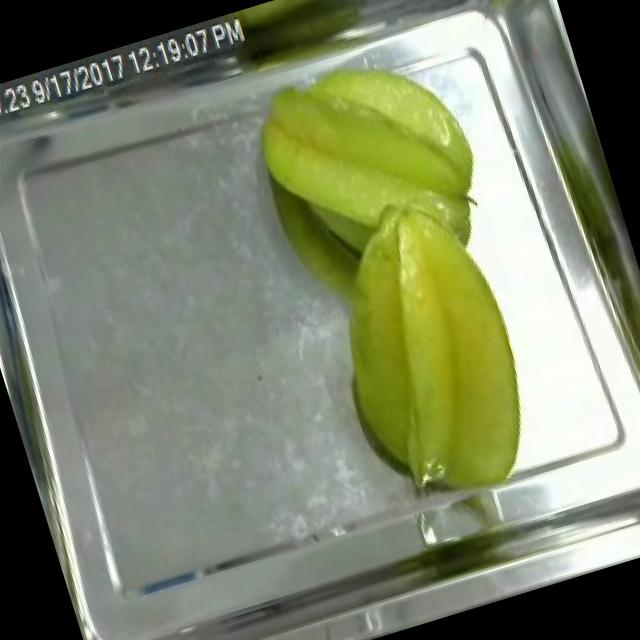fruit: (287, 176, 561, 528), (230, 28, 500, 280)
